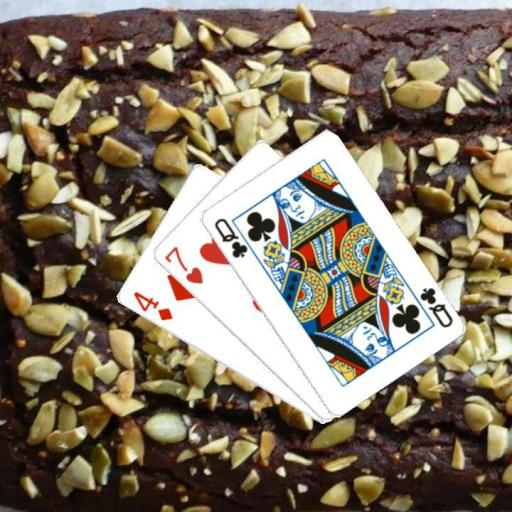4D: (130, 288, 175, 323)
7H: (161, 242, 205, 286)
QC: (210, 215, 249, 260), (416, 284, 454, 329)
